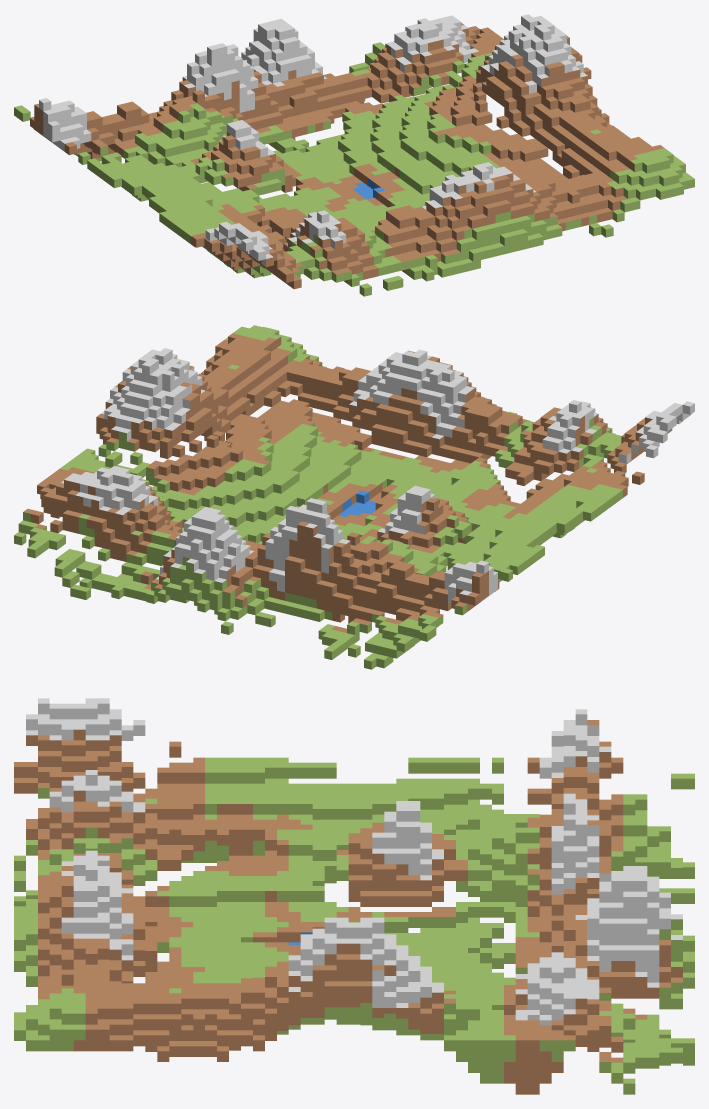
Rendered from Low-poly landscape by sirkitree - bjsNFfddgOv.glb.
3 views of the same model, one above another, from view 1: azimuth 30°, elevation 25°; view 2: azimuth 150°, elevation 25°; view 3: azimuth 270°, elevation 25° (orthographic). The views are drawn at different scales.
Parts seen in each view (by area): view 1: Grid_Voxelized; view 2: Grid_Voxelized; view 3: Grid_Voxelized.
Part boxes in pixels (<box>): Grid_Voxelized: <box>14,14,694,296</box>; Grid_Voxelized: <box>14,325,694,669</box>; Grid_Voxelized: <box>14,698,694,1094</box>.
Bounding box in the file's own units: 19.86 × 6.62 × 19.86.
